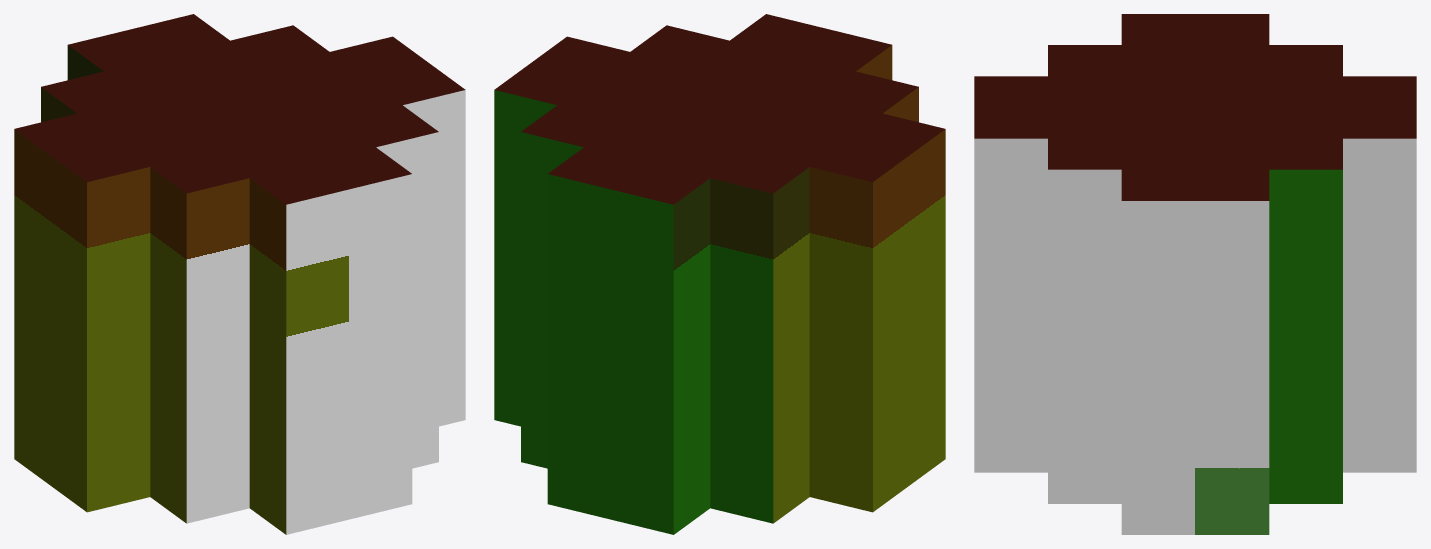
File: block_17.fbx
3 views of the same model, side by side, from view 1: azimuth 30°, elevation 25°; view 2: azimuth 150°, elevation 25°; view 3: azimuth 270°, elevation 25° (orthographic).
Visible parts, largest first — view 1: box; view 2: box; view 3: box.
Boxes of the visible parts, x1,y1,x2,y2 form: box: [14, 14, 465, 534]; box: [494, 14, 945, 534]; box: [974, 14, 1416, 534].
Size of the model in its own units: 6 by 6 by 5.
1 material, 1 textured.
